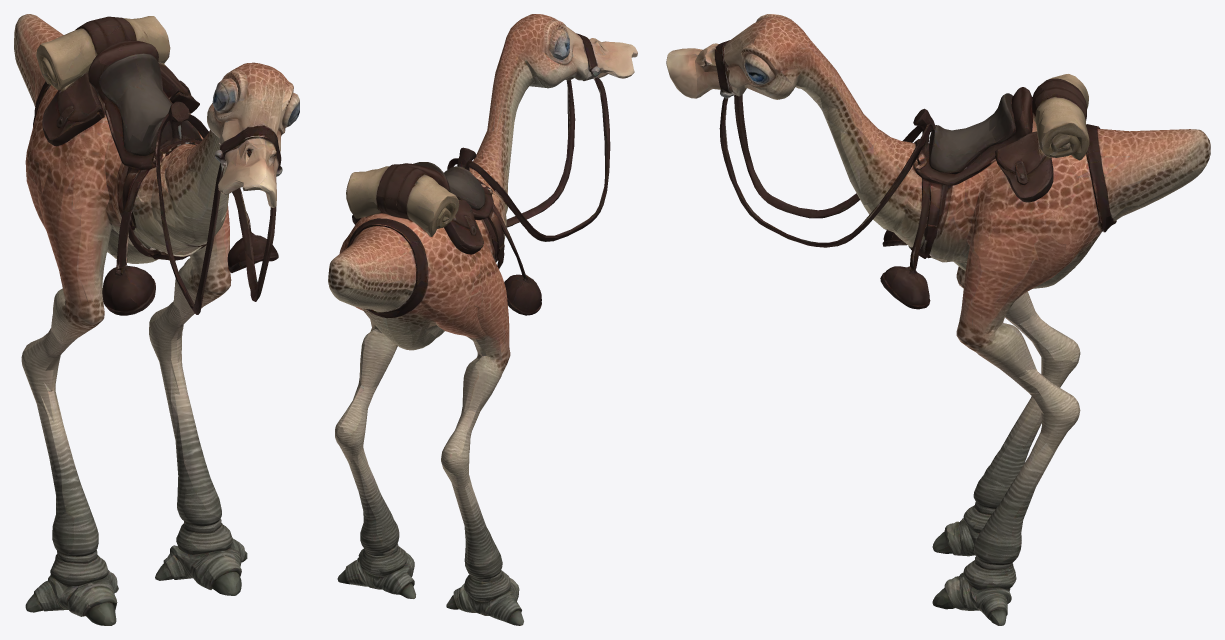
The model's file is kaadu.glb.
The picture shows the model from 3 angles, left to right: view 1: azimuth 30°, elevation 25°; view 2: azimuth 150°, elevation 25°; view 3: azimuth 270°, elevation 25°; orthographic projection. The views are drawn at different scales.
Visible parts, largest first — view 1: kaadu-centred; view 2: kaadu-centred; view 3: kaadu-centred.
Boxes of the visible parts, bbox=[...] form: kaadu-centred: bbox=[14, 14, 299, 625]; kaadu-centred: bbox=[328, 14, 637, 625]; kaadu-centred: bbox=[666, 14, 1210, 625].
Bounding box in the file's own units: 0.9106 × 2.4 × 2.13.
Materials: 1 (1 with a texture image).
